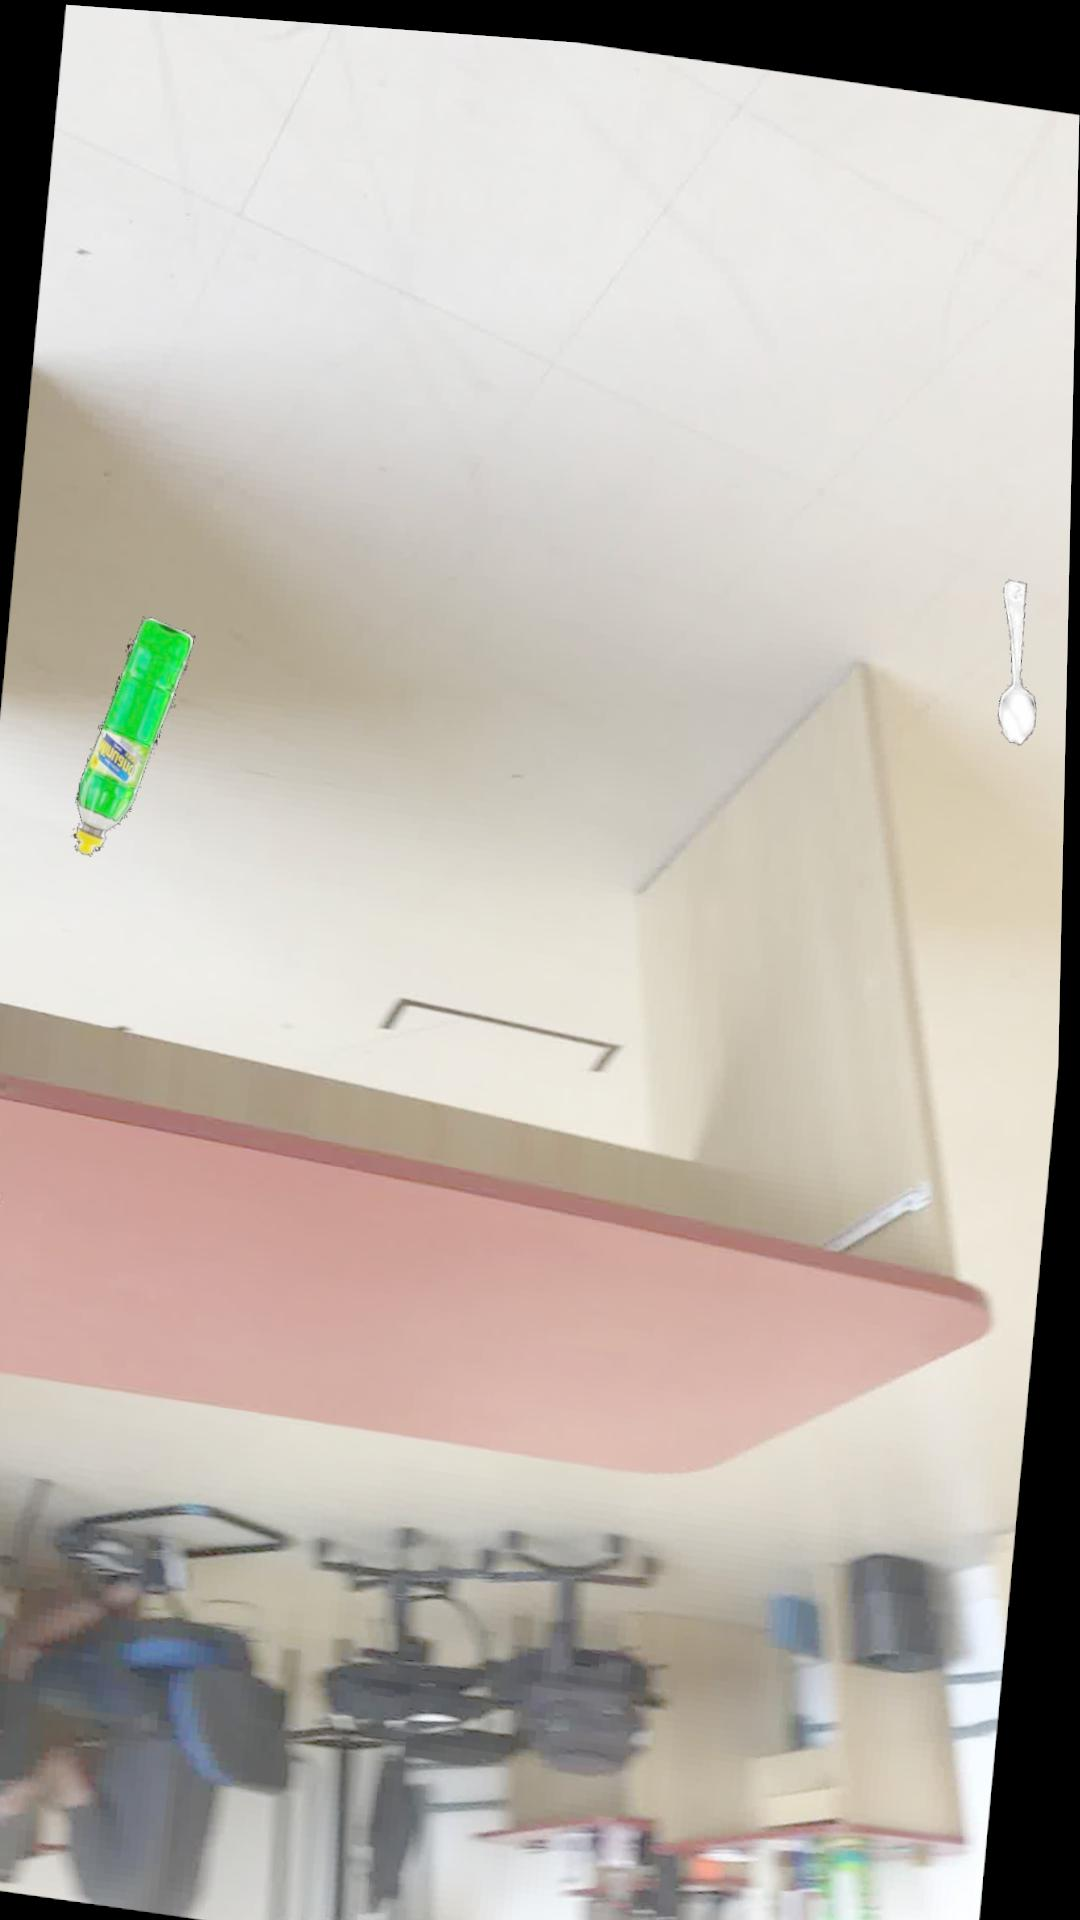cleaner: (78, 616, 198, 855)
spoon: (1001, 566, 1040, 731)
